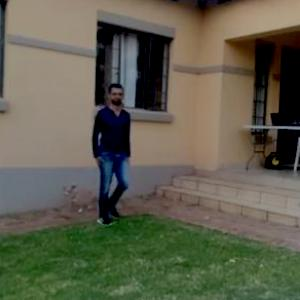follow: (84, 82, 133, 226)
